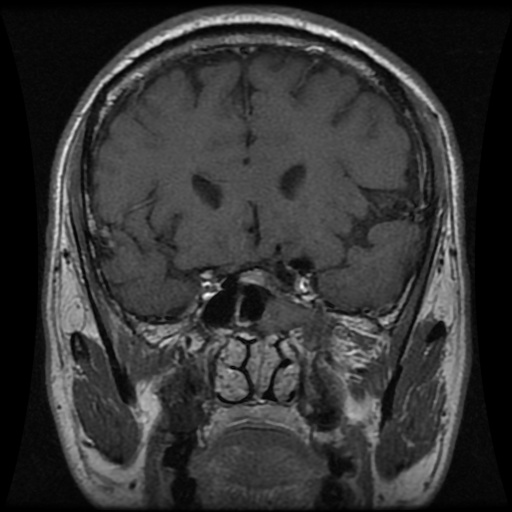pituitary: (239, 269, 267, 285)
